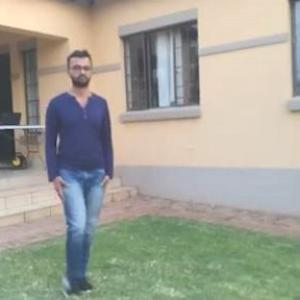follow: (48, 60, 114, 268)
